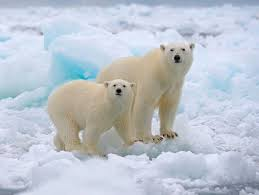PolarBear: (47, 77, 139, 152)
